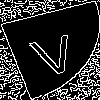V: (25, 24, 81, 79)
